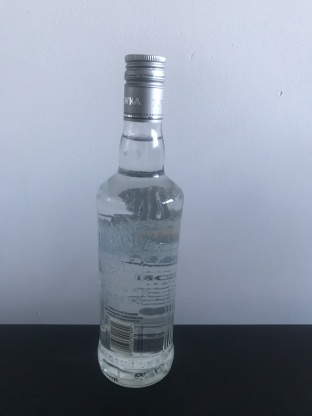nakretka: (121, 50, 167, 126)
